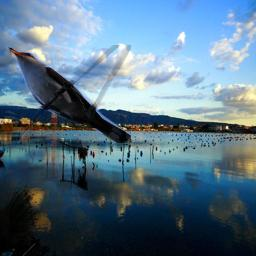Cuckoo: (5, 45, 131, 143)
